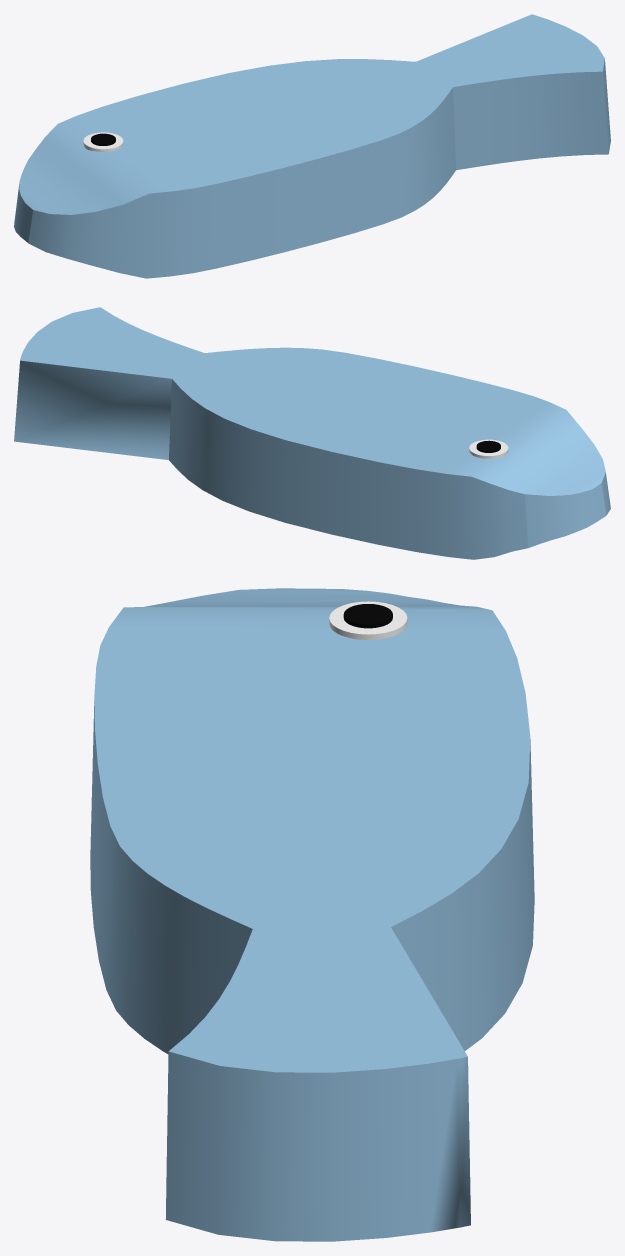
The model's file is fish.FBX.
The picture shows the model from 3 angles, top to bottom: view 1: azimuth 30°, elevation 25°; view 2: azimuth 150°, elevation 25°; view 3: azimuth 270°, elevation 25°; orthographic projection. The views are drawn at different scales.
Parts seen in each view (by area): view 1: Line001, Circle001; view 2: Line001, Circle001; view 3: Line001, Circle001, Circle002.
Part boxes in pixels (x1,y1,x2,y2): Line001: (14, 14, 610, 278); Circle001: (83, 132, 123, 151); Line001: (14, 307, 610, 559); Circle001: (469, 439, 508, 458); Line001: (90, 588, 534, 1241); Circle001: (329, 601, 407, 639); Circle002: (343, 604, 392, 628).
Bounding box in the file's own units: 71.6 × 11.09 × 24.54.
